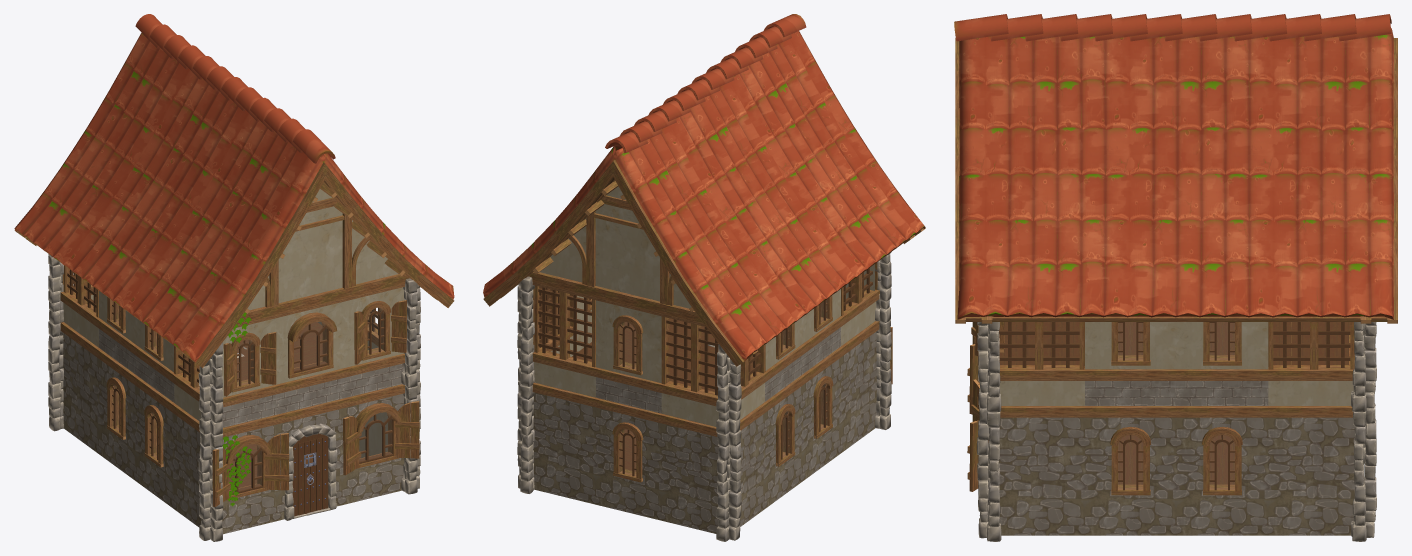
File: house_shop_narrow_7.gltf
The picture shows the model from 3 angles, left to right: view 1: azimuth 30°, elevation 25°; view 2: azimuth 150°, elevation 25°; view 3: azimuth 270°, elevation 25°; orthographic projection. The views are drawn at different scales.
Parts seen in each view (by area): view 1: House; view 2: House; view 3: House.
Boxes of the visible parts, left/top/right/bottom form: House: left=14, top=14, right=454, bottom=541; House: left=483, top=14, right=925, bottom=541; House: left=954, top=14, right=1397, bottom=541.
Size of what is drawn, in the model's own units: 8.25 by 11.14 by 9.68.
10 materials, 9 textured.
